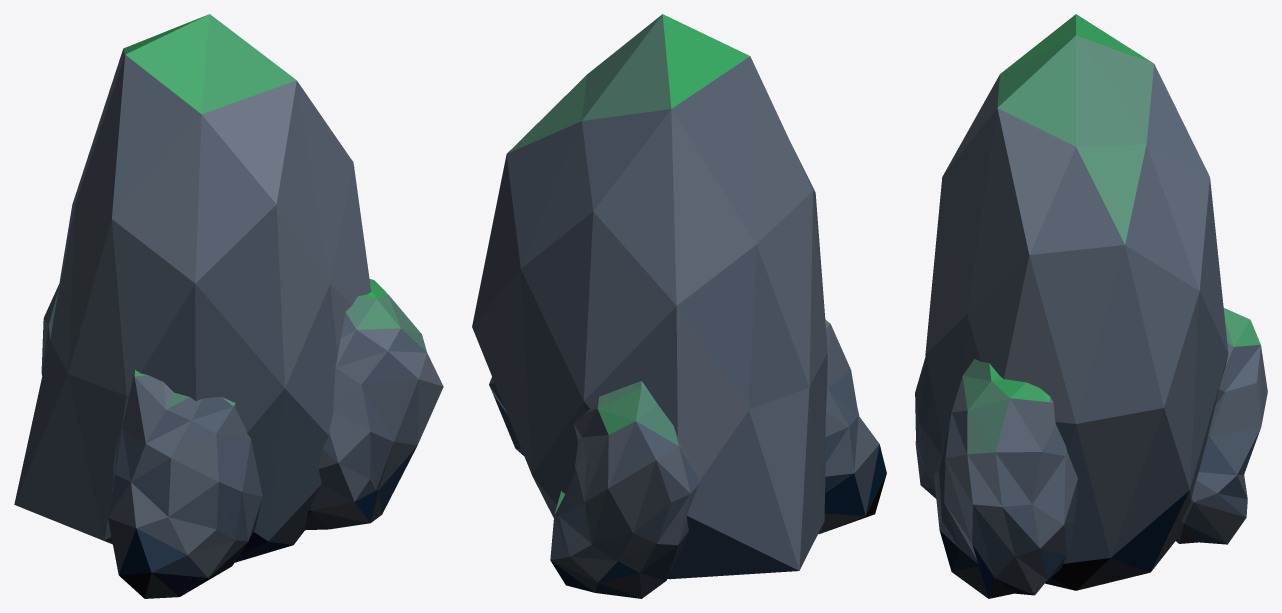
The model's file is batu_boulder_granite_539355.glb.
3 views of the same model, side by side, from view 1: azimuth 30°, elevation 25°; view 2: azimuth 150°, elevation 25°; view 3: azimuth 270°, elevation 25° (orthographic). The views are drawn at different scales.
Parts seen in each view (by area): view 1: Batu_Jeram_Sungai; view 2: Batu_Jeram_Sungai; view 3: Batu_Jeram_Sungai.
Boxes of the visible parts, x1,y1,x2,y2 form: Batu_Jeram_Sungai: (14,14,443,598); Batu_Jeram_Sungai: (472,14,886,598); Batu_Jeram_Sungai: (915,14,1267,598).
Size of the model in its own units: 3.68 by 5.3 by 3.21.
